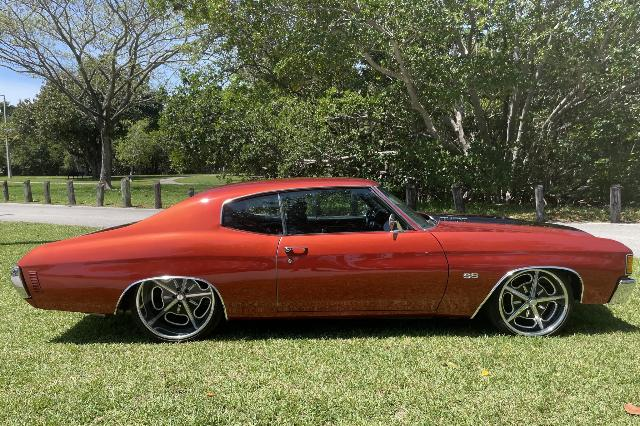chevelle-1972: (11, 178, 634, 341)
